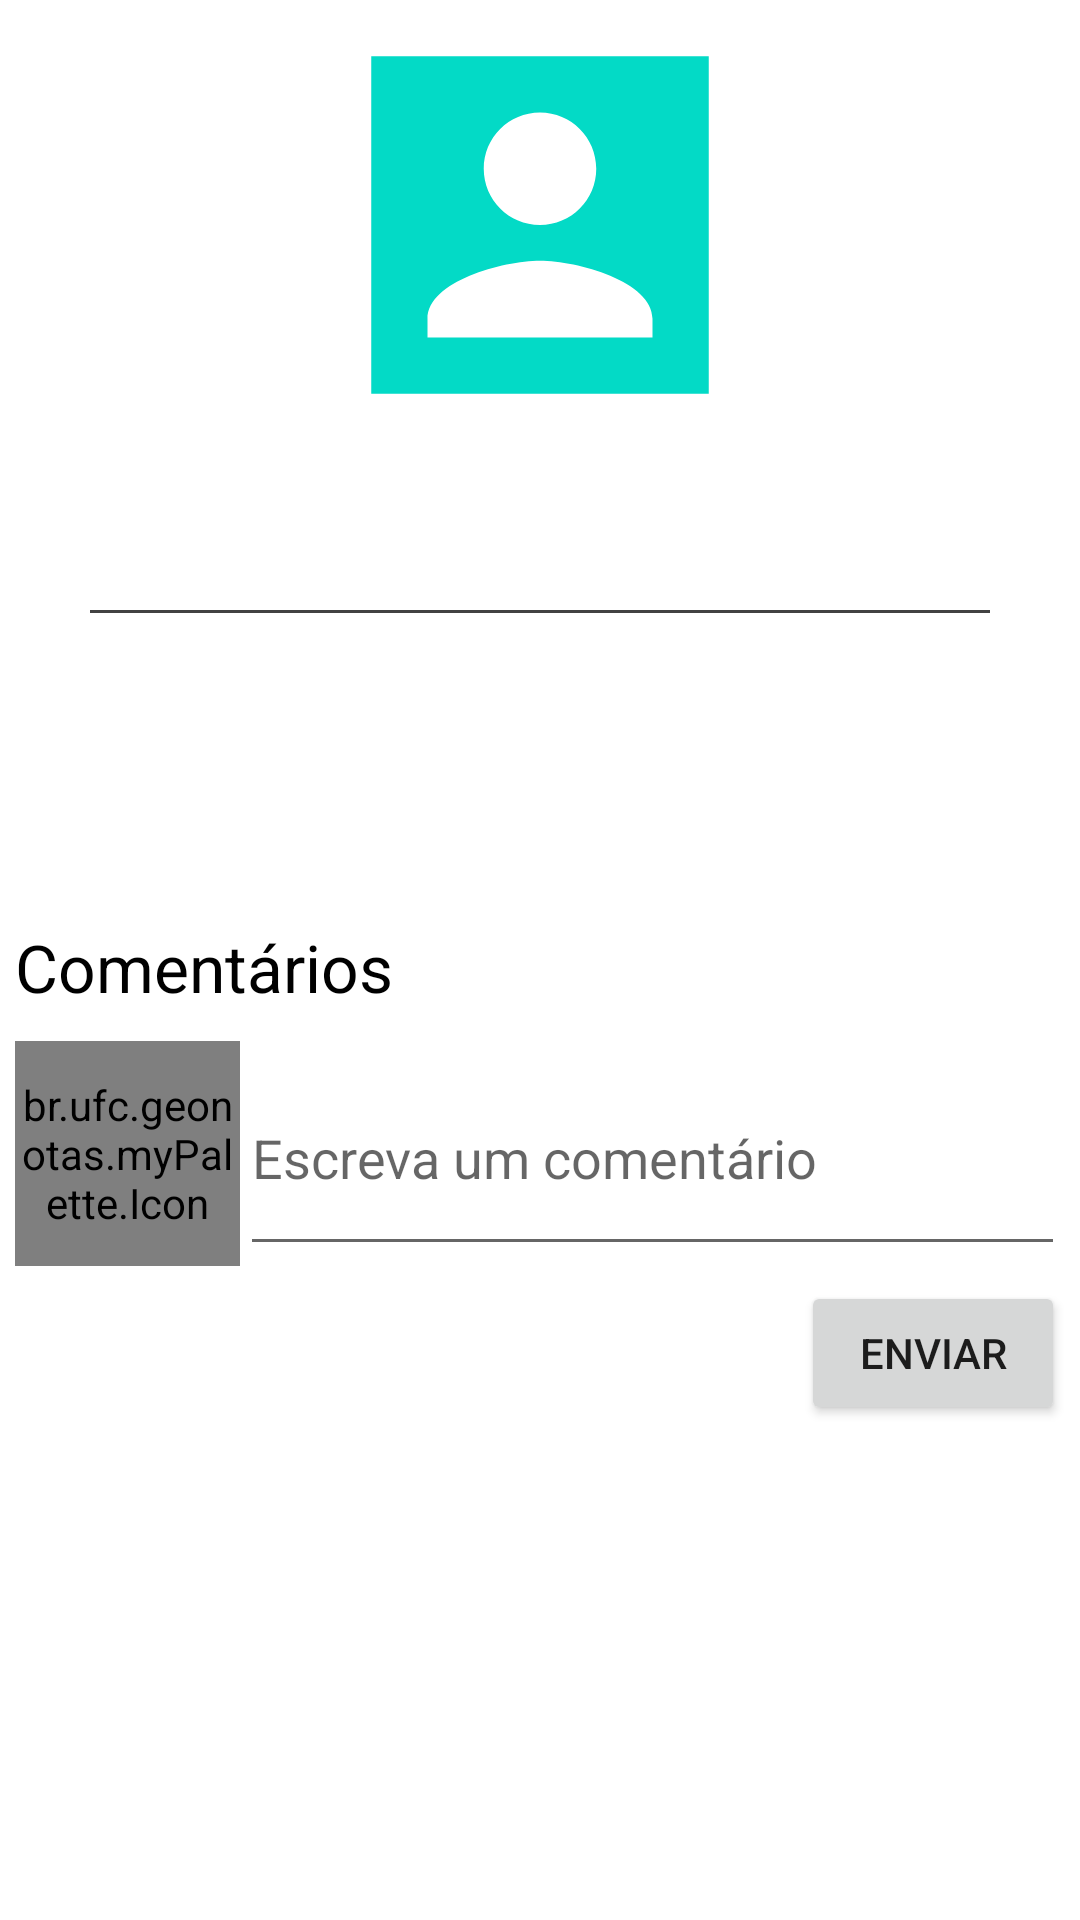

Icon bounding boxes for this 1080 x 1920 phone screenshot, format (x1, y1, x2, y2):
account box: (371, 56, 709, 394)
